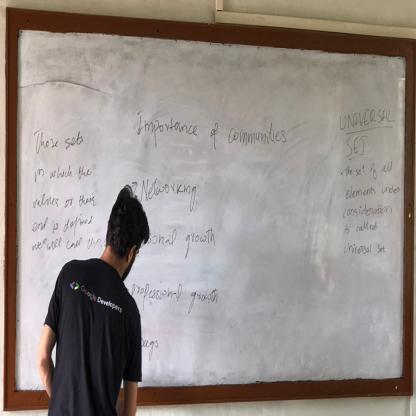Handwritten text: (129, 106, 287, 154), (127, 274, 227, 317), (139, 172, 200, 214), (28, 125, 89, 154), (336, 101, 397, 129), (28, 188, 99, 212), (28, 160, 94, 184), (28, 214, 95, 235), (182, 225, 219, 259), (344, 160, 396, 181), (340, 183, 401, 200), (343, 238, 389, 258), (341, 131, 371, 158), (342, 203, 396, 218), (340, 221, 381, 236)
Lecturer: (52, 179, 156, 406)
Whiteboard: (9, 22, 409, 398)
